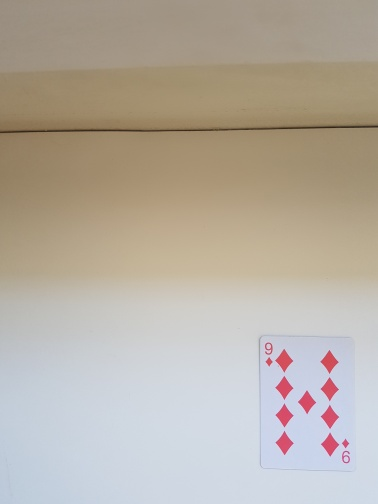nine: (257, 334, 356, 472)
